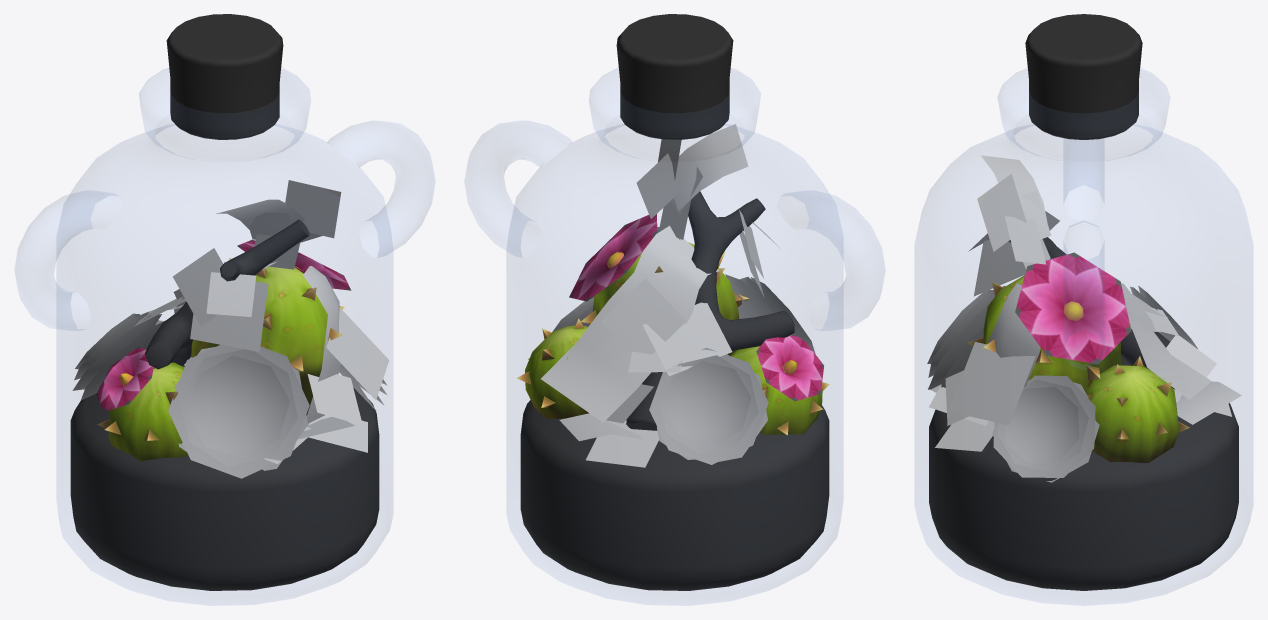
Rendered from obj_rewards_plant03.fbx.
3 renders of one model, left to right at view 1: azimuth 30°, elevation 25°; view 2: azimuth 150°, elevation 25°; view 3: azimuth 270°, elevation 25°, orthographic.
Parts seen in each view (by area): view 1: Cylinder.010, part01_lp.002, Cylinder.007, part02_lp.002, Plane.015, obj_plants_ballcactus.008, obj_plants_ballcactus.007, part03_lp.002, Cylinder.008, obj_plants_ballcactus.004, Plane.017, Plane.014 (+4 smaller); view 2: Cylinder.010, part01_lp.002, Plane.012, part02_lp.002, Cylinder.008, part03_lp.002, obj_plants_ballcactus.008, obj_plants_ballcactus.004, Plane.020, obj_plants_ballcactus.006, obj_plants_ballcactus.007, Cylinder.007 (+2 smaller); view 3: Cylinder.010, part01_lp.002, part02_lp.002, obj_plants_ballcactus.008, Plane.015, Cylinder.006, obj_plants_ballcactus.006, Plane.012, Cylinder.007, Plane.011, Plane.017, Plane.020 (+3 smaller).
Part boxes in pixels (x1,y1,x2,y2): Cylinder.010: [15, 68, 434, 605]; part01_lp.002: [70, 365, 379, 590]; Cylinder.007: [168, 344, 309, 478]; part02_lp.002: [166, 14, 283, 139]; Plane.015: [190, 281, 389, 464]; obj_plants_ballcactus.008: [191, 239, 351, 415]; obj_plants_ballcactus.007: [97, 362, 187, 461]; part03_lp.002: [145, 219, 309, 369]; Cylinder.008: [72, 311, 165, 400]; obj_plants_ballcactus.004: [96, 347, 153, 411]; Plane.017: [285, 180, 341, 238]; Plane.014: [172, 248, 222, 326]; Cylinder.010: [465, 68, 884, 605]; part01_lp.002: [520, 400, 829, 590]; Plane.012: [541, 225, 732, 467]; part02_lp.002: [616, 14, 733, 139]; Cylinder.008: [649, 348, 768, 464]; part03_lp.002: [626, 191, 794, 430]; obj_plants_ballcactus.008: [569, 214, 749, 355]; obj_plants_ballcactus.004: [756, 335, 823, 401]; Plane.020: [674, 124, 748, 211]; obj_plants_ballcactus.006: [517, 318, 588, 418]; obj_plants_ballcactus.007: [730, 346, 829, 435]; Cylinder.007: [725, 274, 815, 353]; Cylinder.010: [915, 68, 1252, 605]; part01_lp.002: [929, 357, 1238, 590]; part02_lp.002: [1025, 14, 1142, 139]; obj_plants_ballcactus.008: [967, 252, 1131, 392]; Plane.015: [927, 239, 1035, 451]; Cylinder.006: [992, 375, 1099, 482]; obj_plants_ballcactus.006: [1086, 356, 1189, 462]; Plane.012: [1121, 283, 1241, 424]; Cylinder.007: [927, 285, 1005, 389]; Plane.011: [987, 283, 1040, 386]; Plane.017: [977, 174, 1026, 251]; Plane.020: [981, 155, 1049, 234].
Bounding box in the file's own units: 2.84 × 3.35 × 2.
